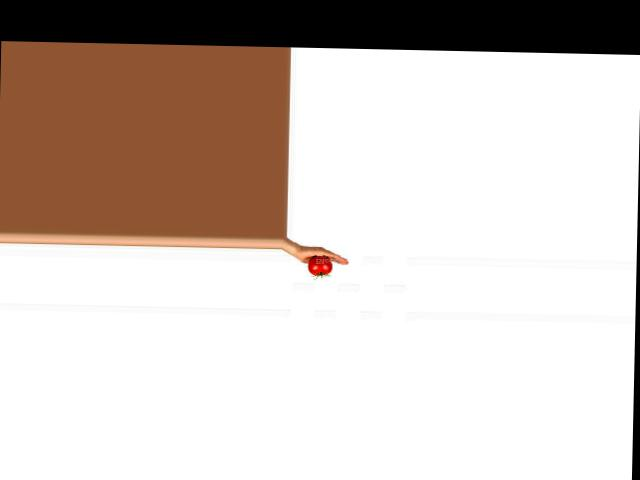tomato: (308, 255, 332, 275)
